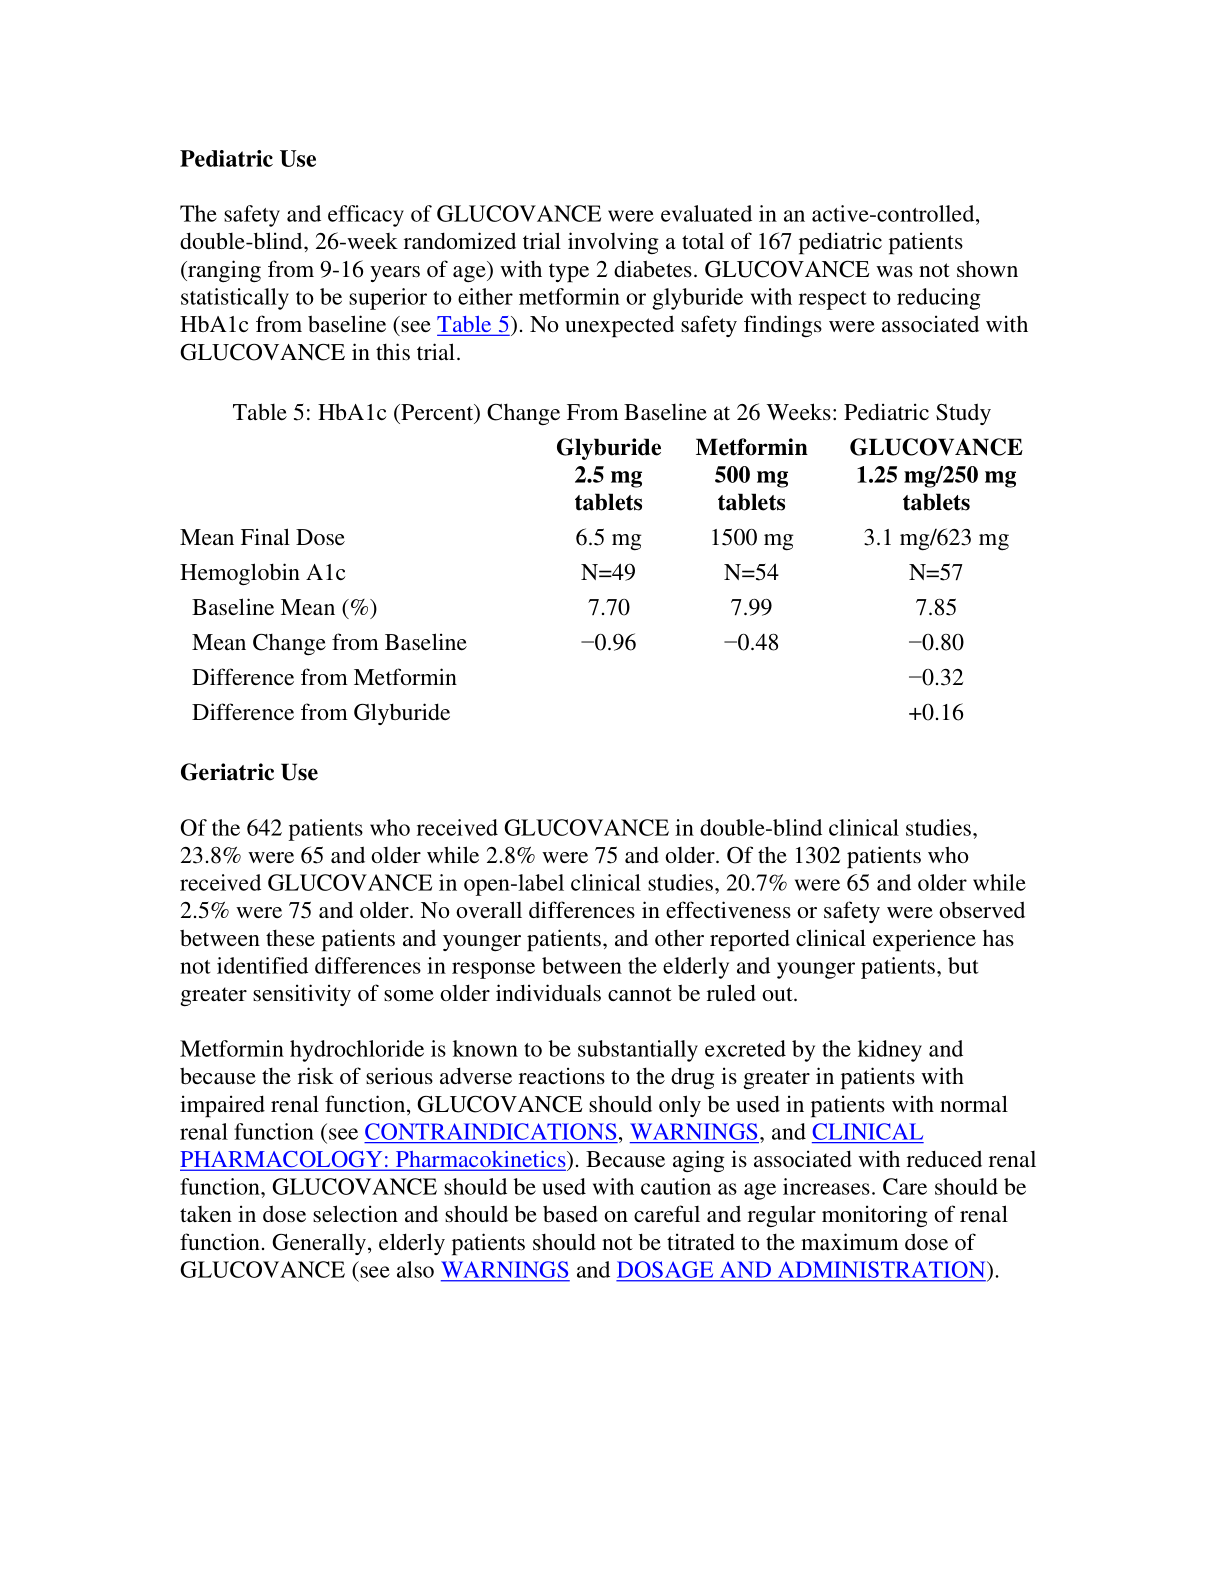nolines: (176, 435, 1023, 726)
